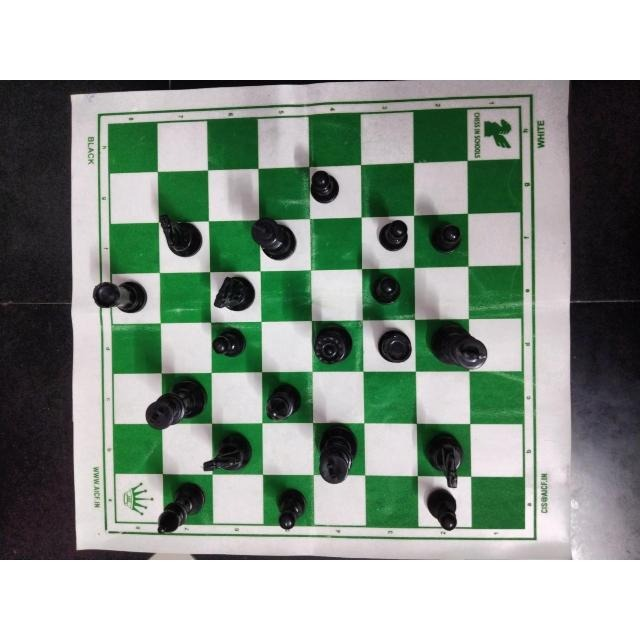black-bishop: (154, 483, 210, 537), (262, 377, 303, 429)
black-king: (143, 376, 211, 432), (429, 320, 491, 372), (316, 423, 357, 483), (247, 215, 297, 263)
black-knight: (200, 430, 256, 477), (422, 429, 463, 487), (209, 273, 261, 317), (158, 211, 206, 258)
black-pawn: (420, 487, 464, 535), (269, 484, 310, 535), (365, 273, 407, 310), (308, 166, 342, 210), (426, 217, 465, 255), (208, 327, 249, 361), (377, 215, 411, 254)
black-queen: (304, 322, 356, 370)
black-rook: (91, 275, 152, 315), (367, 325, 417, 369)
